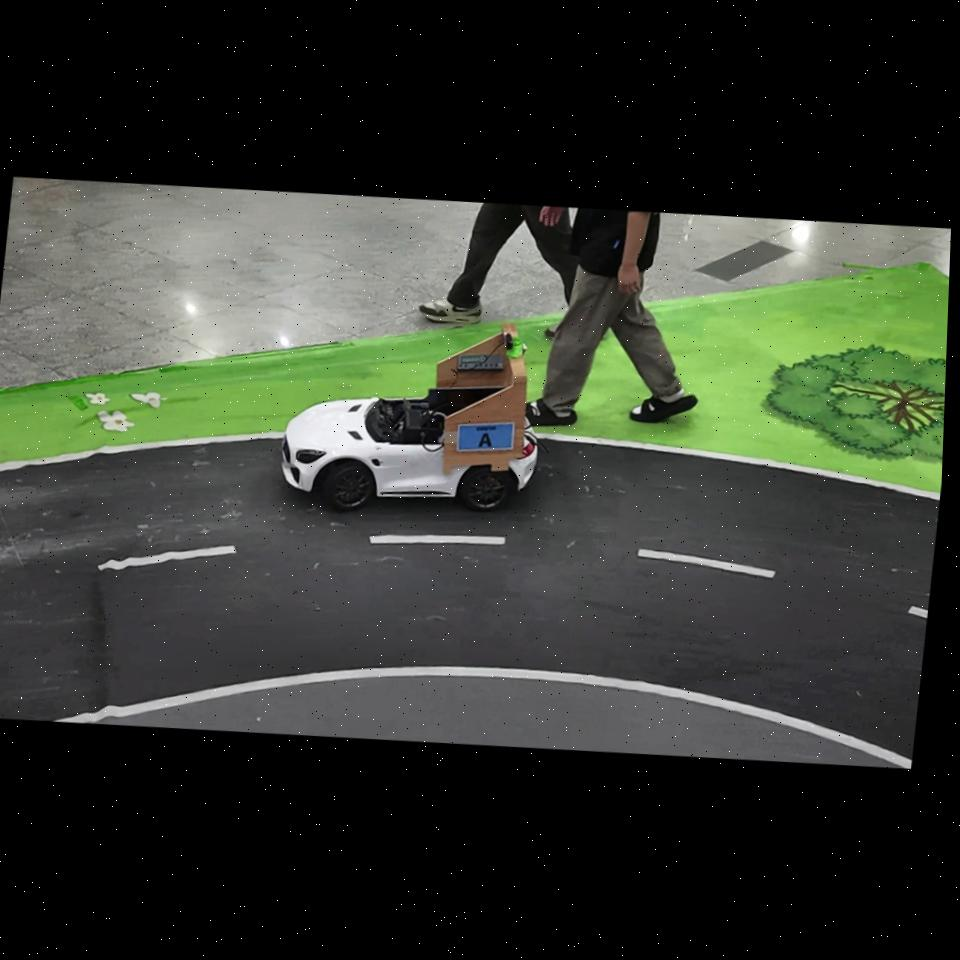broken_line: (637, 549, 775, 578), (97, 546, 236, 570), (370, 534, 505, 544), (907, 606, 927, 619)
